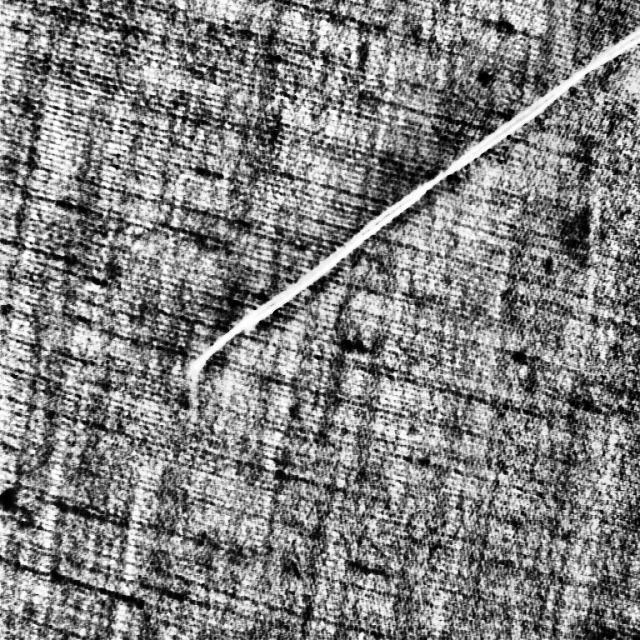gray stitch: (186, 28, 640, 381)
